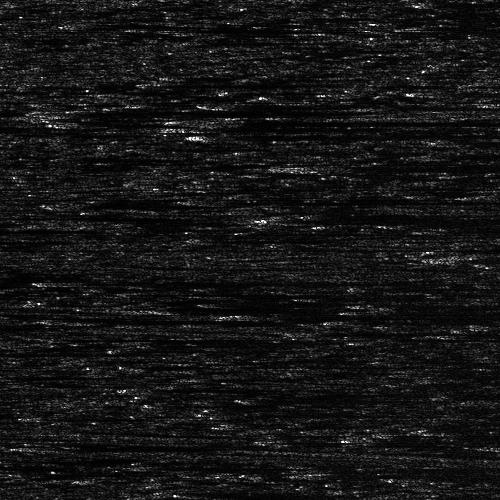rock: (294, 310, 399, 327), (245, 163, 360, 172), (164, 131, 257, 140), (175, 114, 268, 123), (408, 252, 500, 261), (239, 213, 312, 224), (152, 125, 225, 130), (27, 279, 90, 284), (412, 0, 453, 6), (179, 196, 210, 203), (315, 470, 356, 475), (49, 108, 80, 113), (28, 414, 69, 417), (48, 120, 69, 125)
shadow: (347, 310, 500, 327), (222, 114, 500, 123), (276, 213, 500, 224), (211, 131, 448, 140), (59, 279, 418, 284), (303, 163, 500, 172), (195, 196, 447, 203), (65, 108, 342, 113), (0, 347, 142, 354), (189, 125, 365, 130), (336, 470, 500, 475), (0, 234, 68, 243), (54, 443, 235, 446), (0, 227, 106, 232), (433, 0, 500, 6), (368, 302, 497, 305), (49, 414, 168, 417), (466, 252, 500, 261), (59, 120, 115, 125), (0, 412, 21, 417)
